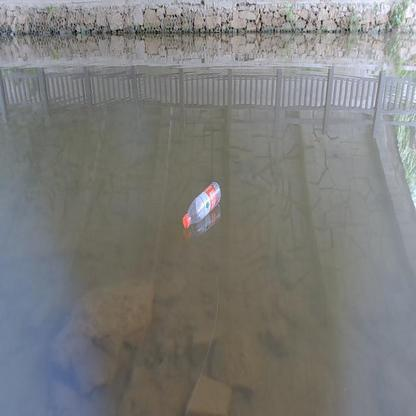plastic bottle: (183, 181, 222, 226)
